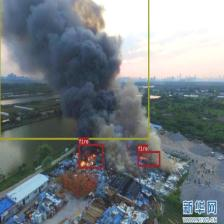fire: (79, 144, 103, 168), (137, 151, 160, 166)
smoke: (0, 0, 149, 139)
